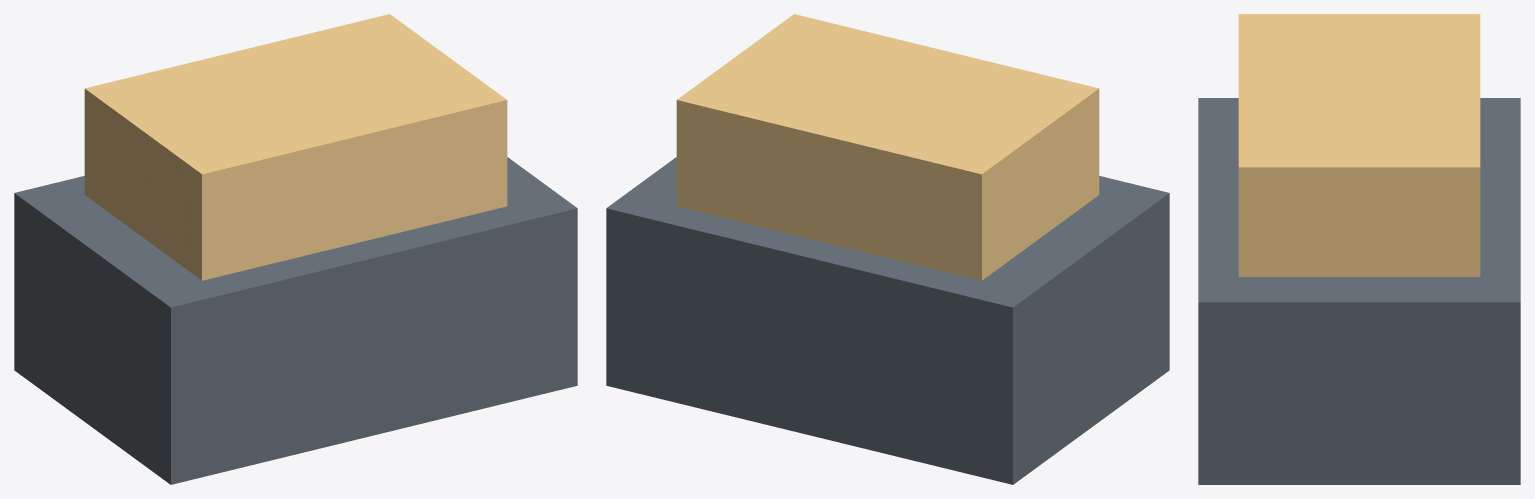
3 views of the same model, side by side, from view 1: azimuth 30°, elevation 25°; view 2: azimuth 150°, elevation 25°; view 3: azimuth 270°, elevation 25° (orthographic). The views are drawn at different scales.
Visible parts, largest first — view 1: connector_housing__PSMAT__connector_housing, led_amber__PSMAT__led_amber; view 2: connector_housing__PSMAT__connector_housing, led_amber__PSMAT__led_amber; view 3: connector_housing__PSMAT__connector_housing, led_amber__PSMAT__led_amber.
Boxes of the visible parts, x1,y1,x2,y2 form: connector_housing__PSMAT__connector_housing: (14, 157, 577, 484); led_amber__PSMAT__led_amber: (84, 14, 507, 280); connector_housing__PSMAT__connector_housing: (606, 157, 1169, 484); led_amber__PSMAT__led_amber: (676, 14, 1099, 280); connector_housing__PSMAT__connector_housing: (1198, 98, 1520, 484); led_amber__PSMAT__led_amber: (1238, 14, 1480, 276).
Size of the model in its own units: 0.012 by 0.008 by 0.008.
